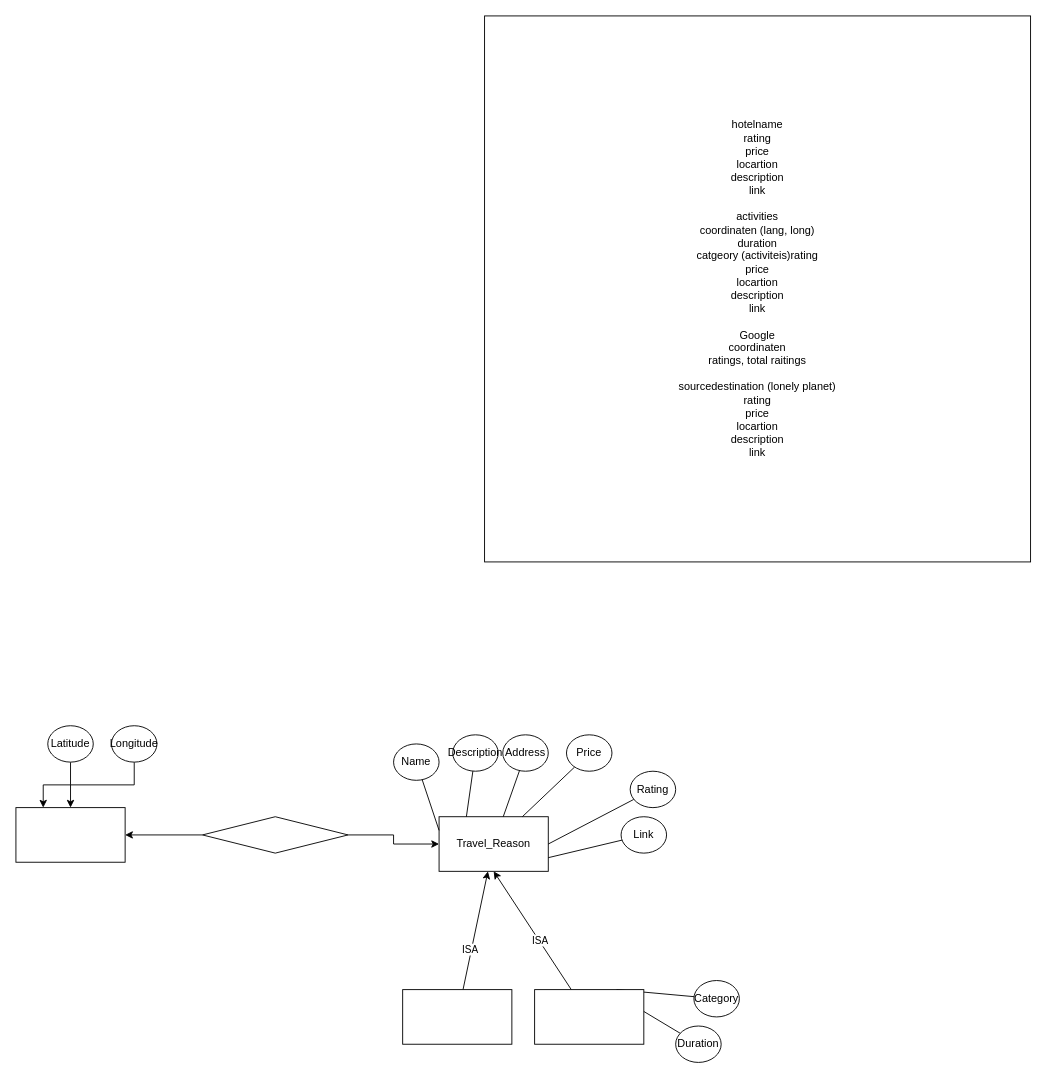
This 1047x1078 diagram has some shape labels left out. The centre of each missing label's shape, as x and y in pixels:
Activity: [589,1016]
Destination: [70,834]
has: [275,834]
Hotel: [457,1016]
